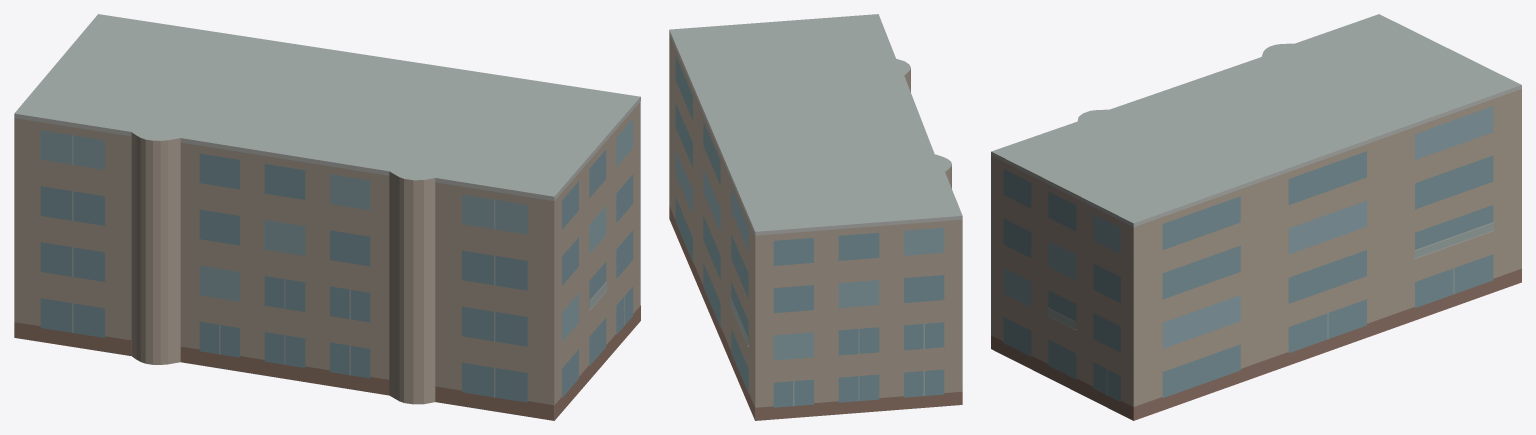
The model's file is survey-upis-32882466.glb.
The picture shows the model from 3 angles, left to right: view 1: azimuth 30°, elevation 25°; view 2: azimuth 150°, elevation 25°; view 3: azimuth 270°, elevation 25°; orthographic projection. The views are drawn at different scales.
Visible parts, largest first — view 1: survey-upis-32882466.tmp; view 2: survey-upis-32882466.tmp; view 3: survey-upis-32882466.tmp.
Boxes of the visible parts, box(x1,y1,x2,y2) form: survey-upis-32882466.tmp: box(14, 14, 640, 420); survey-upis-32882466.tmp: box(669, 14, 962, 420); survey-upis-32882466.tmp: box(991, 14, 1521, 420).
Bounding box in the file's own units: 27.76 × 12.2 × 29.73.
